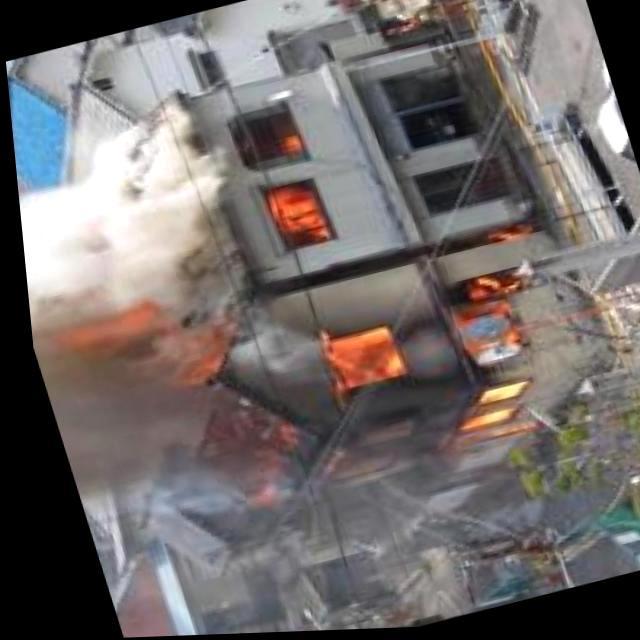fire: (277, 221, 587, 475), (56, 284, 236, 410), (247, 123, 325, 244)
